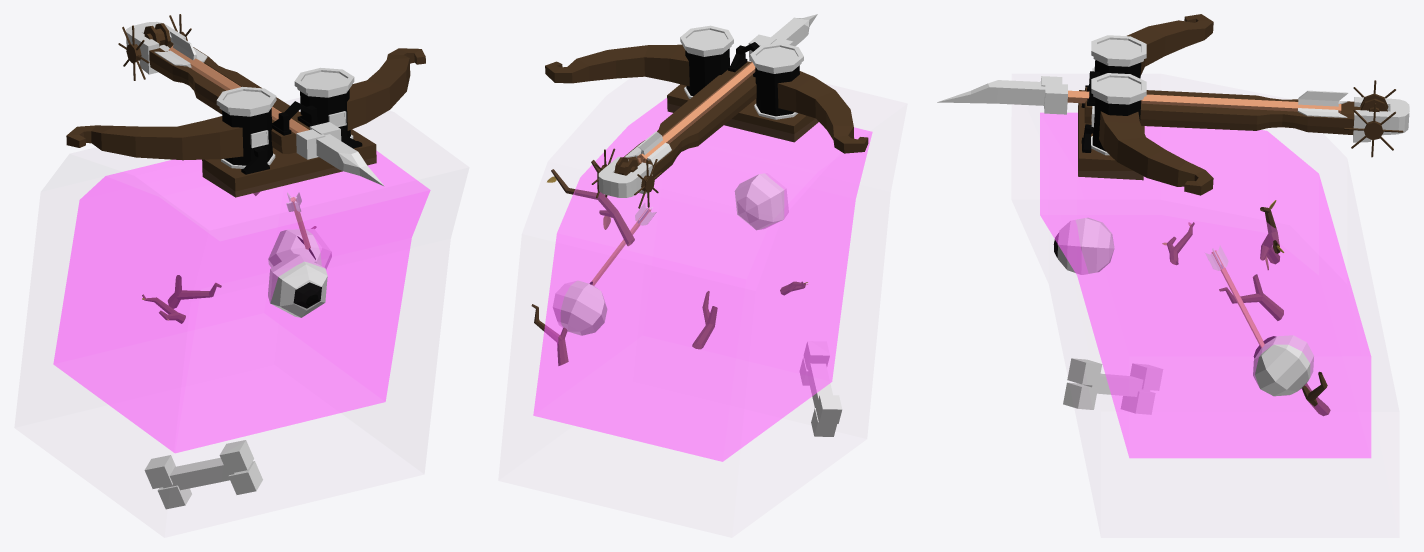
The model's file is Enemy_Range02.fbx.
The picture shows the model from 3 angles, left to right: view 1: azimuth 30°, elevation 25°; view 2: azimuth 150°, elevation 25°; view 3: azimuth 270°, elevation 25°; orthographic projection. The views are drawn at different scales.
Visible parts, largest first — view 1: Cylinder.001; view 2: Cylinder.001; view 3: Cylinder.001.
Part boxes in pixels (bbox=[...]): Cylinder.001: bbox=[53, 14, 430, 509]; Cylinder.001: bbox=[531, 14, 872, 461]; Cylinder.001: bbox=[937, 14, 1409, 458].
Size of the model in its own units: 273 by 303 by 317.
